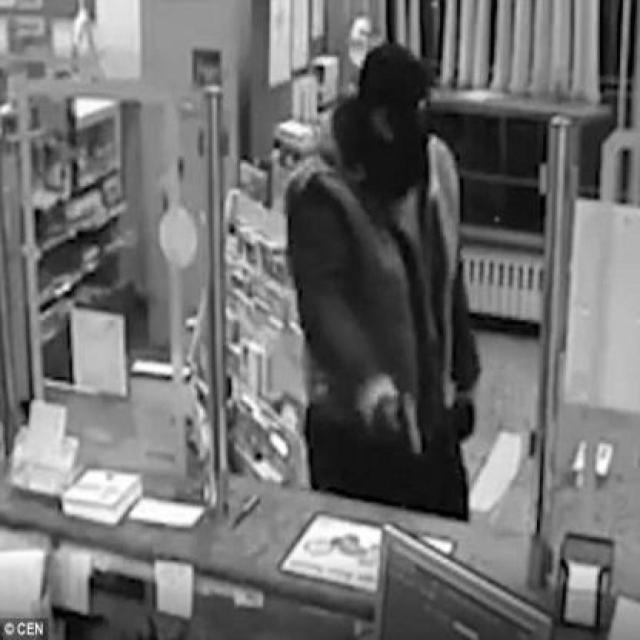weapon: (384, 389, 427, 462)
